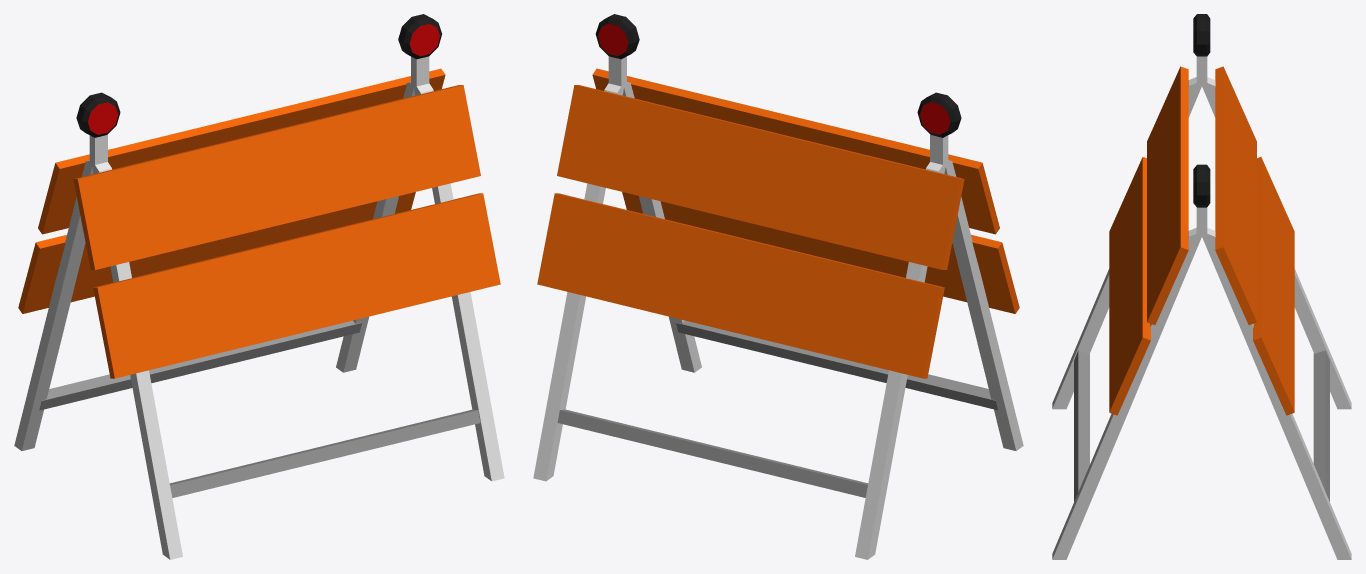
Rendered from TrafficRoadBarrier.FBX.
3 renders of one model, left to right at view 1: azimuth 30°, elevation 25°; view 2: azimuth 150°, elevation 25°; view 3: azimuth 270°, elevation 25°, orthographic. The views are drawn at different scales.
Visible parts, largest first — view 1: Box002; view 2: Box002; view 3: Box002.
Part boxes in pixels (x1,y1,x2,y2): Box002: [14, 14, 504, 559]; Box002: [533, 14, 1023, 559]; Box002: [1052, 14, 1351, 559].
Size of the model in its own units: 60 by 60.25 by 42.
